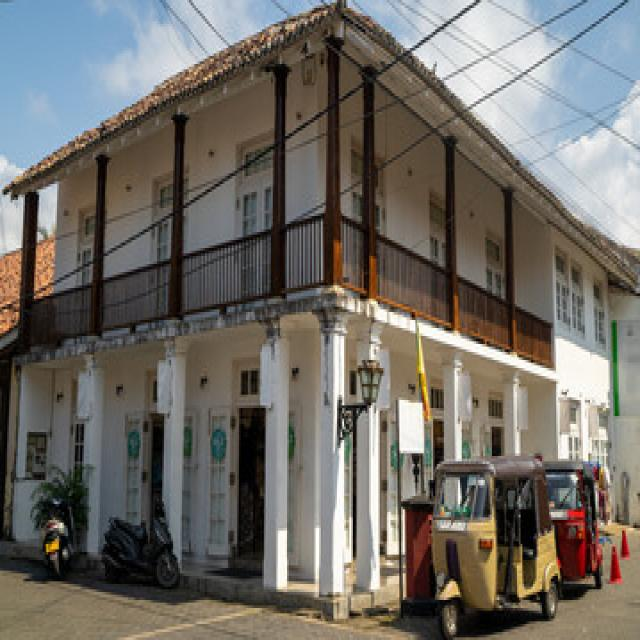motorcycle: (102, 504, 178, 589), (43, 501, 71, 579)
three wheeler: (431, 456, 560, 640), (544, 461, 601, 587)
